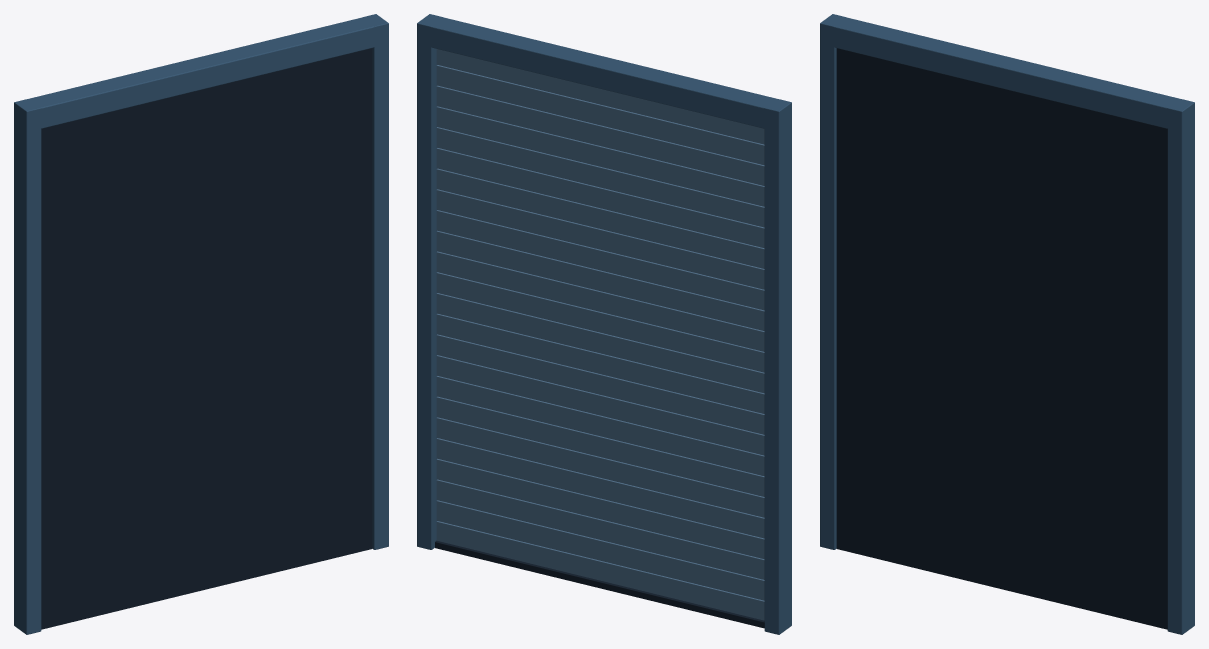
File: SM_GHS_CADDockDoor.fbx
The picture shows the model from 3 angles, left to right: view 1: azimuth 30°, elevation 25°; view 2: azimuth 150°, elevation 25°; view 3: azimuth 330°, elevation 25°; orthographic projection.
Visible parts, largest first — view 1: SM_GHS_CADDockDoor; view 2: SM_GHS_CADDockDoor; view 3: SM_GHS_CADDockDoor.
Part boxes in pixels (x1,y1,x2,y2): SM_GHS_CADDockDoor: [14, 14, 388, 634]; SM_GHS_CADDockDoor: [417, 14, 791, 634]; SM_GHS_CADDockDoor: [820, 14, 1194, 634].
Size of the model in its own units: 304 by 18.77 by 420.
